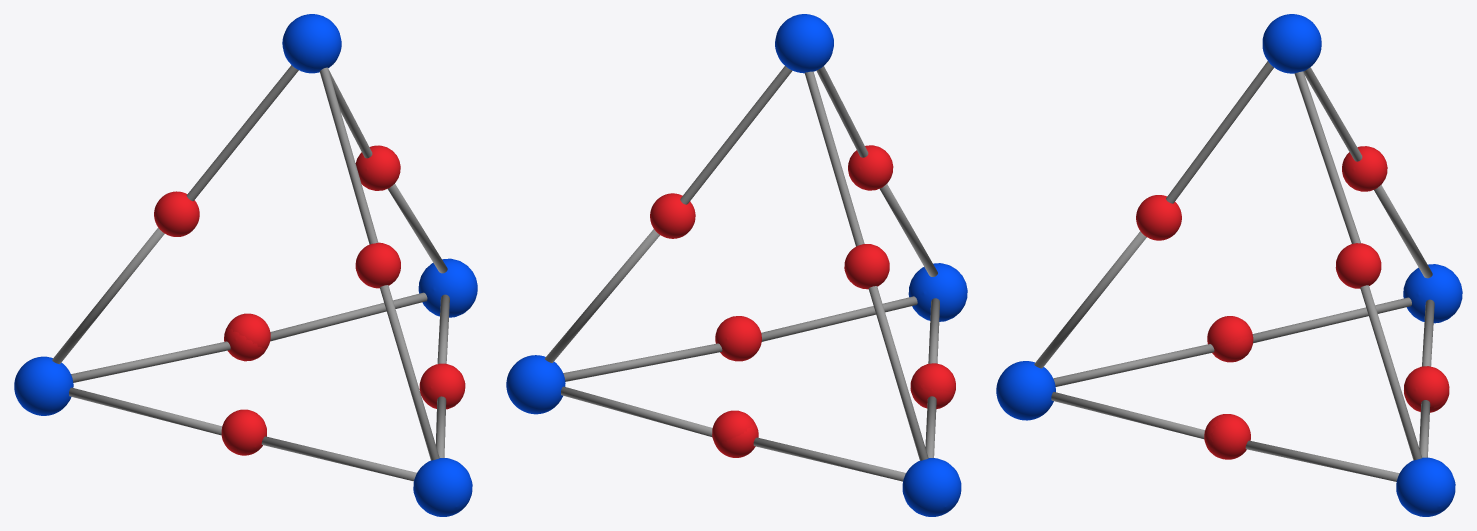
3 renders of one model, left to right at view 1: azimuth 30°, elevation 25°; view 2: azimuth 150°, elevation 25°; view 3: azimuth 270°, elevation 25°, orthographic.
Visible parts, largest first — view 1: Сферы_Node (×4), Цилиндр_Node (×3); view 2: Сферы_Node (×4), Цилиндр_Node (×3); view 3: Сферы_Node (×4), Цилиндр_Node (×3).
Part boxes in pixels (x1,y1,x2,y2): Сферы_Node (×4): (14,14,477,516); Цилиндр_Node (×3): (186,65,378,244); Сферы_Node (×4): (506,14,967,516); Цилиндр_Node (×3): (680,66,868,246); Сферы_Node (×4): (996,14,1462,516); Цилиндр_Node (×3): (1166,61,1362,243).
Size of the model in its own units: 6.85 by 5.79 by 6.1.
3 materials, 2 textured.
